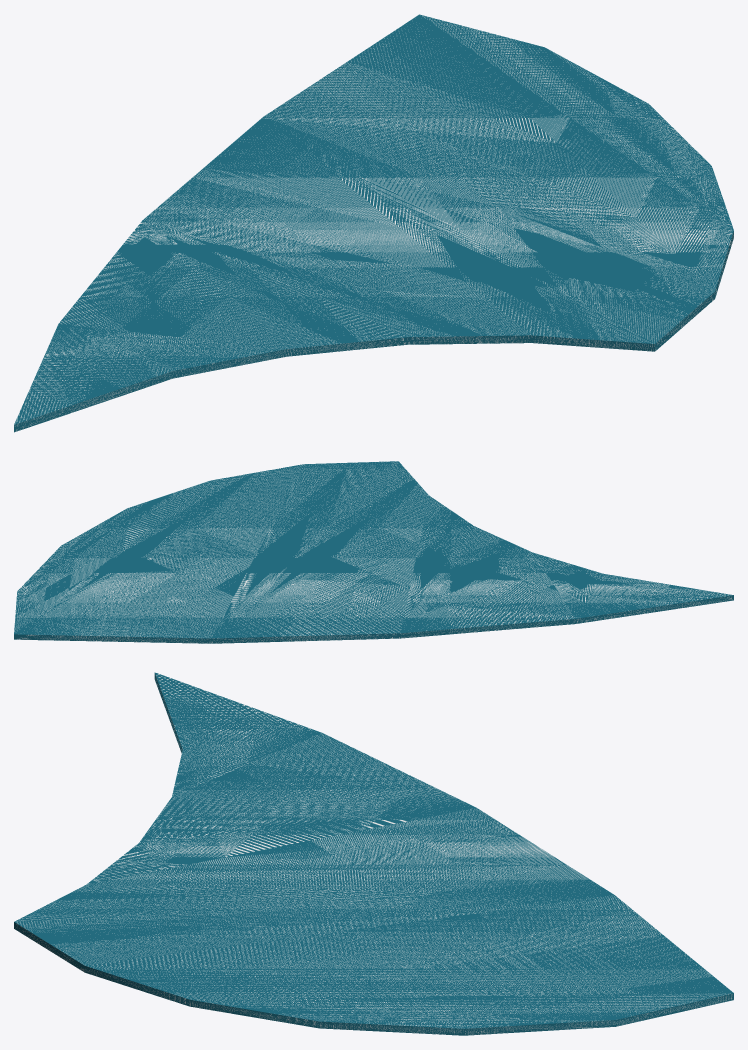
File: original-12.obj
The picture shows the model from 3 angles, top to bottom: view 1: azimuth 30°, elevation 25°; view 2: azimuth 150°, elevation 25°; view 3: azimuth 270°, elevation 25°; orthographic projection. The views are drawn at different scales.
Parts seen in each view (by area): view 1: mesh10/mesh10-geometry#mesh10-geometry; view 2: mesh10/mesh10-geometry#mesh10-geometry; view 3: mesh10/mesh10-geometry#mesh10-geometry.
Part boxes in pixels (left/top/right/bottom): mesh10/mesh10-geometry#mesh10-geometry: left=14, top=14, right=733, bottom=432; mesh10/mesh10-geometry#mesh10-geometry: left=14, top=461, right=733, bottom=643; mesh10/mesh10-geometry#mesh10-geometry: left=14, top=672, right=733, bottom=1035.
Bounding box in the file's own units: 0.0725 × 0.000658 × 0.0619.
